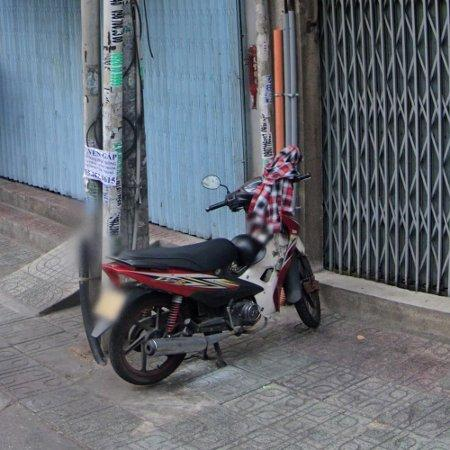motorcycles: (104, 147, 320, 386)
